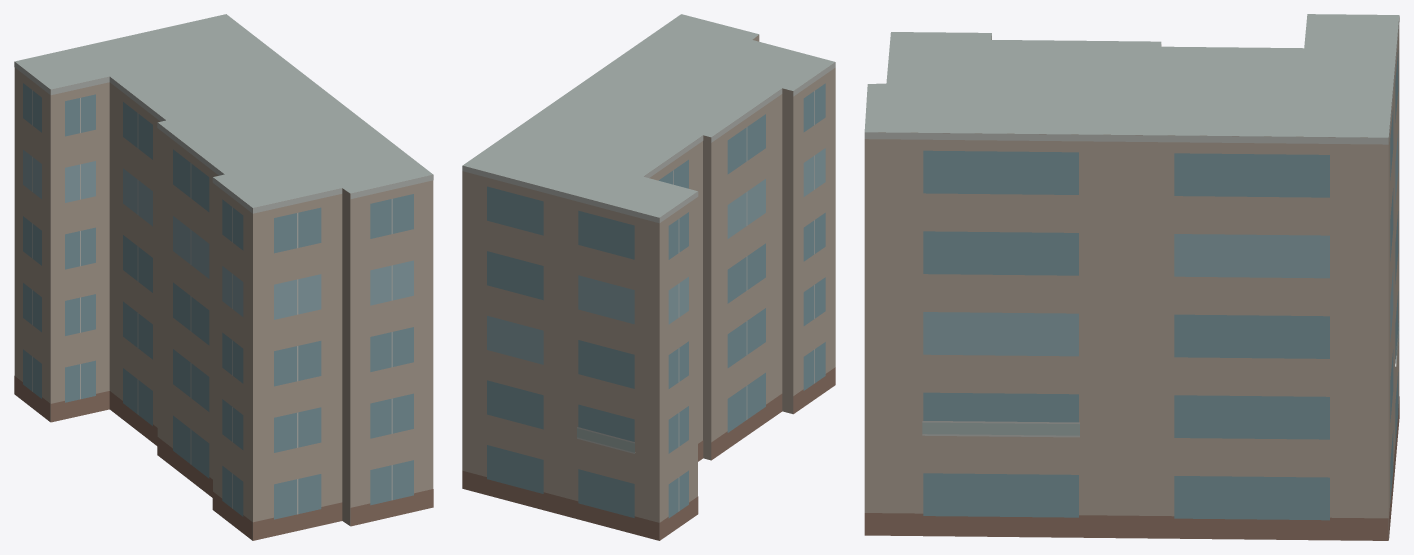
Rendered from survey-upis-32641281.glb.
3 renders of one model, left to right at view 1: azimuth 30°, elevation 25°; view 2: azimuth 150°, elevation 25°; view 3: azimuth 270°, elevation 25°, orthographic. The views are drawn at different scales.
Visible parts, largest first — view 1: survey-upis-32641281.tmp; view 2: survey-upis-32641281.tmp; view 3: survey-upis-32641281.tmp.
Boxes of the visible parts, <box> form: survey-upis-32641281.tmp: <box>14,14,433,540</box>; survey-upis-32641281.tmp: <box>462,14,835,540</box>; survey-upis-32641281.tmp: <box>864,14,1399,540</box>.
Size of the model in its own units: 9.42 by 14.3 by 17.2.
